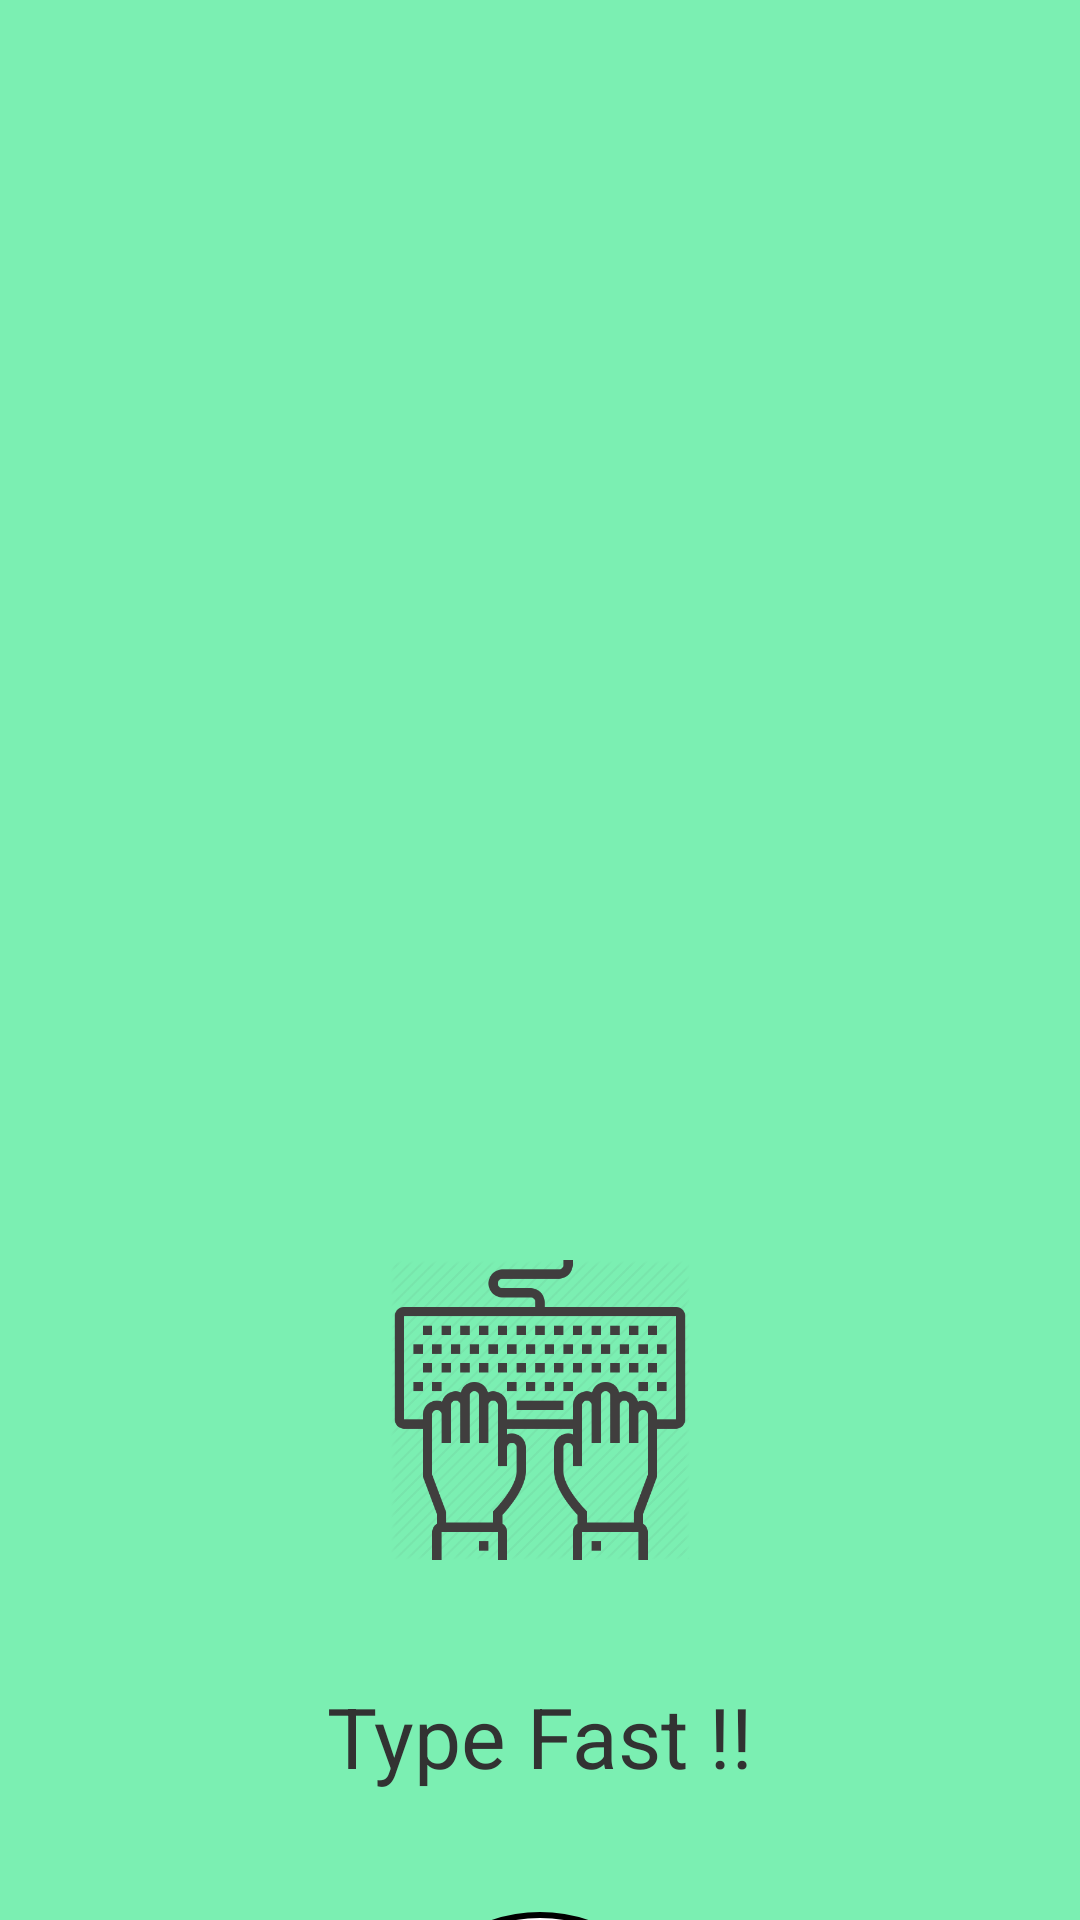

Icon bounding boxes for this 1080 × 1920 phone screenshot, format (x1, y1, x2, y2):
keyboard: (394, 1260, 686, 1560)
